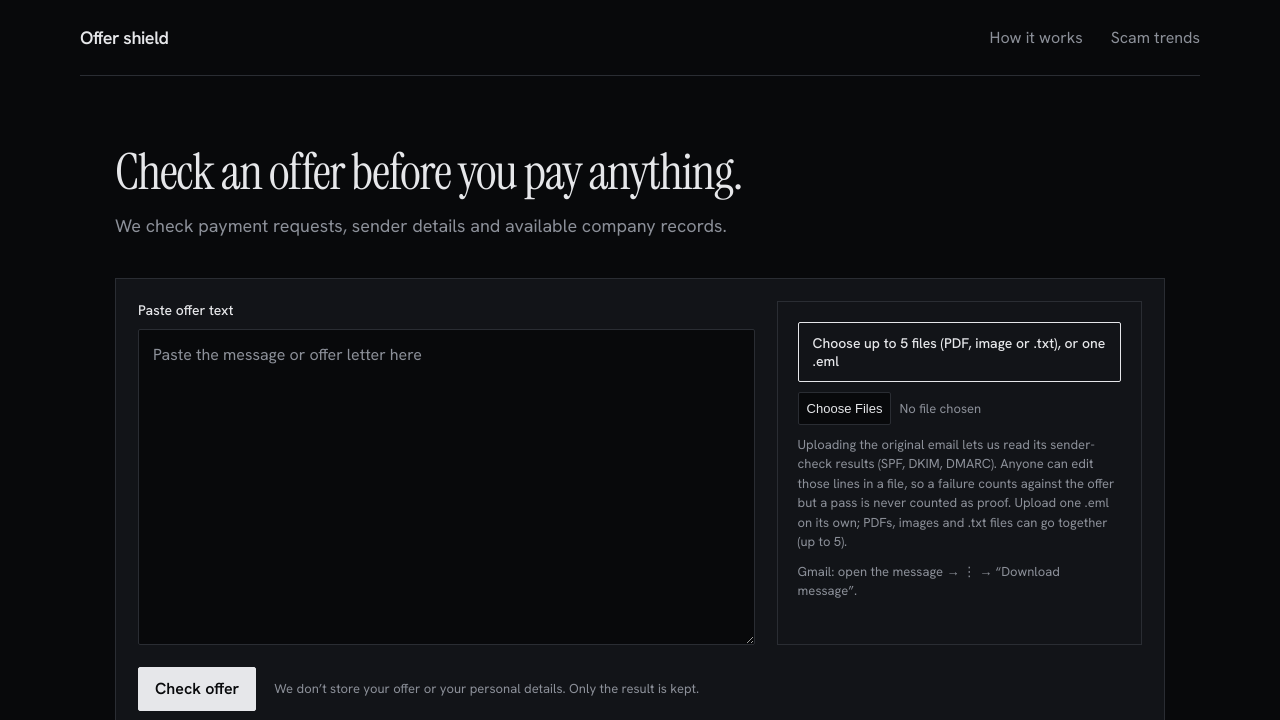
Test: analysis result › renders ledger names, status glyphs and details in API order
This screenshot has width=1280, height=720.
Type "Test offer text" into the text box labelled "Paste offer text". click: (446, 487)
box: [138,329,755,645]
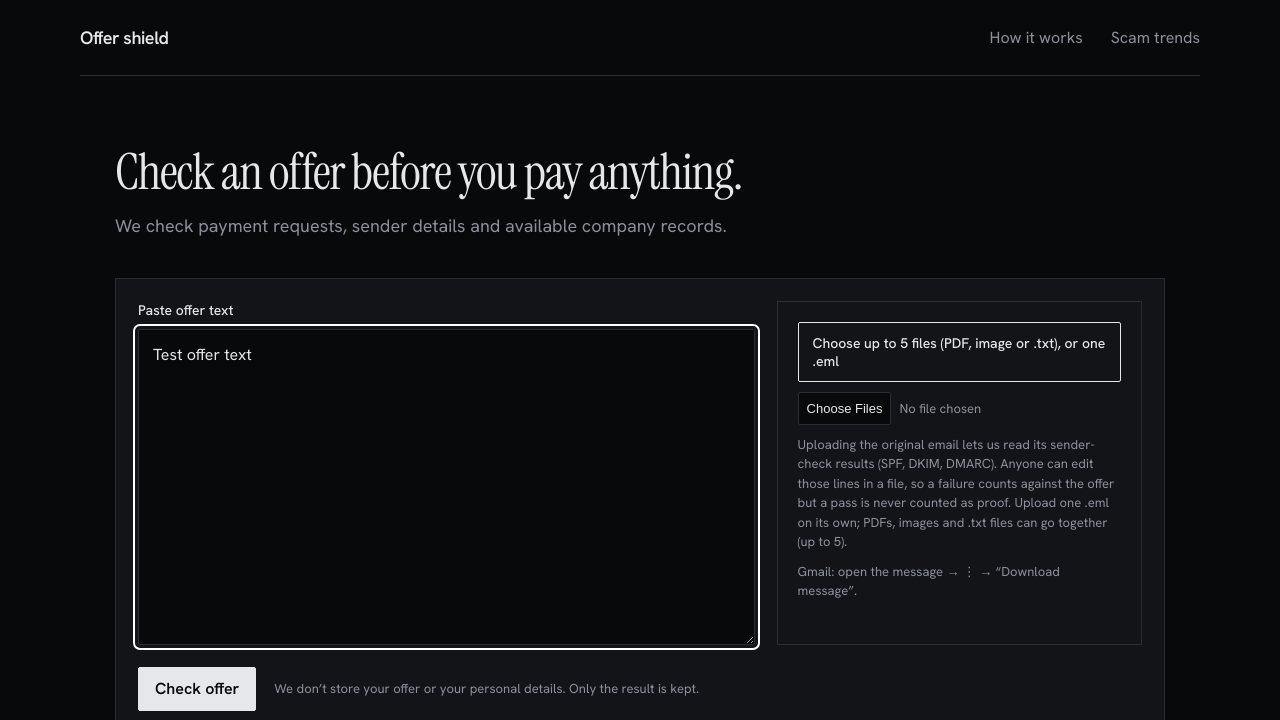
Click the button "Check offer". click: (197, 689)
box: [138,667,256,711]
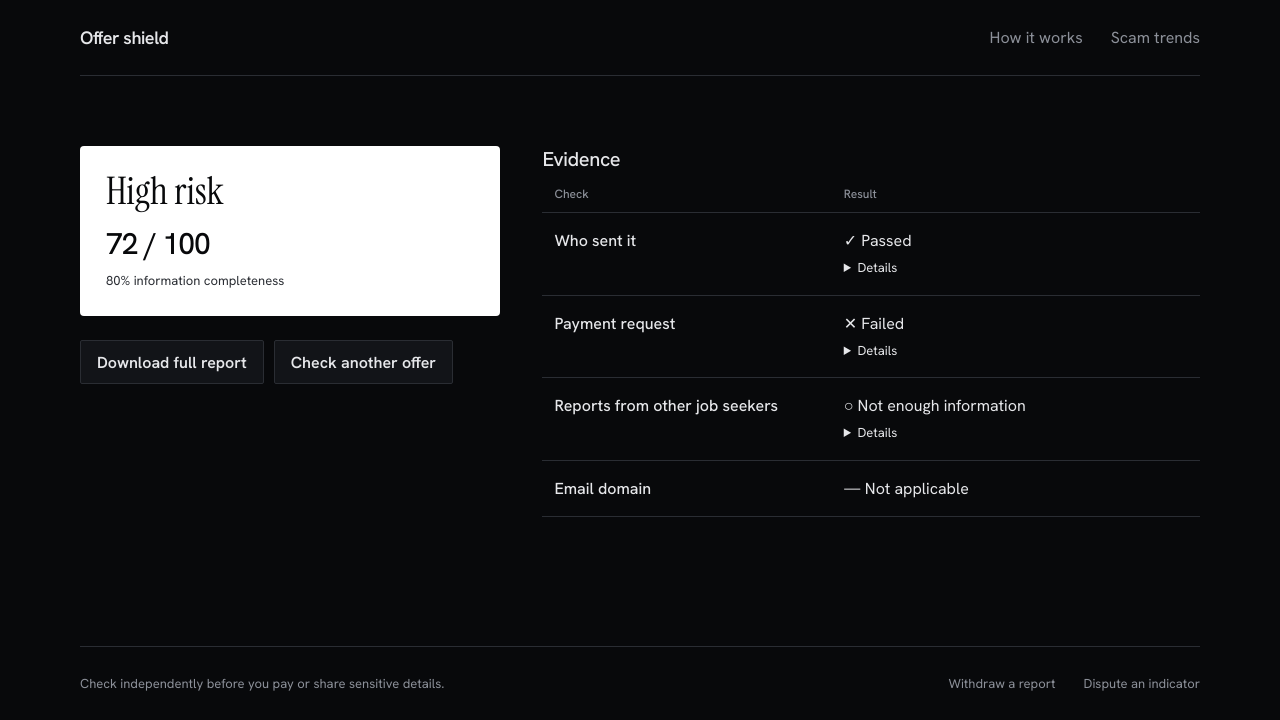
expect the column heading "Who sent it" is shown: met, box [542,212,832,295]
expect the text "Passed" is shown: met, box [861,230,912,251]
expect the text "✕" is shown: met, box [844,312,857,334]
Click the heading "Details" below "Passed". click: (877, 268)
box: [858,259,897,276]
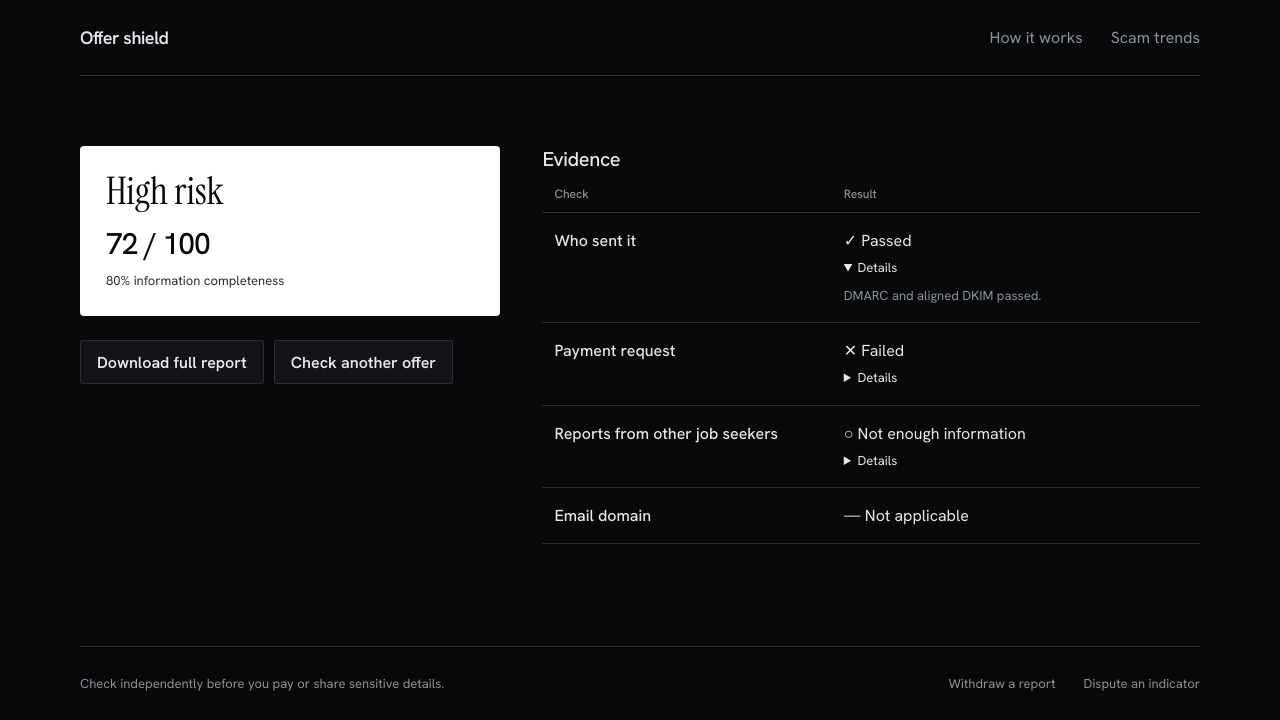
expect the text "DMARC and aligned DKIM passed." is shown: met, box [844,286,1042,304]
